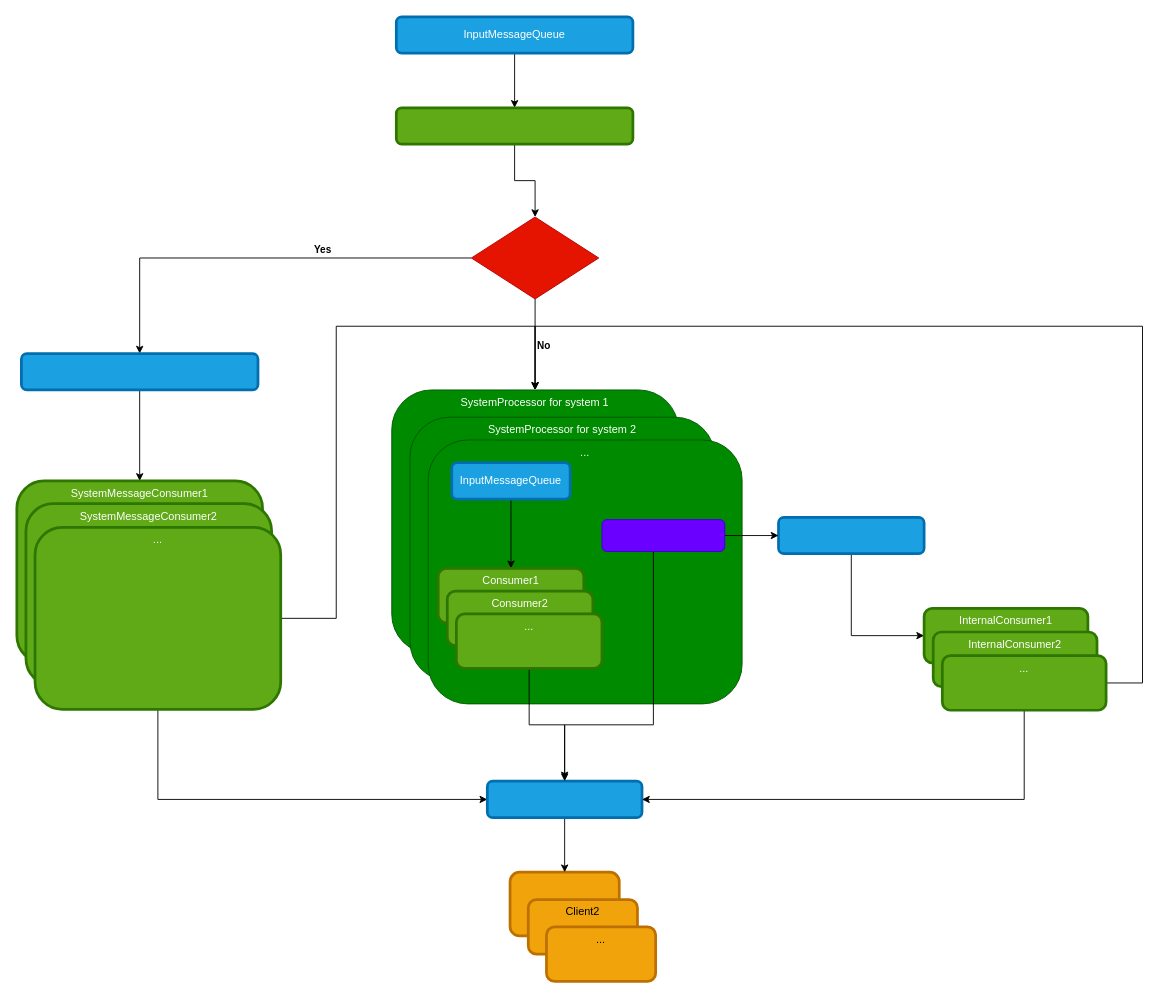
The diagram is 1166 pixels wide and 998 high, and some of its shapes have lost their labels. Here are the shapes that lost their labels. From the top down, the box of each, then its label:
(394, 106, 634, 145): TriageMessageConsumer
(470, 216, 599, 299): Is this a SystemMessage?
(20, 352, 259, 391): SystemQueue
(601, 519, 725, 551): Coordinator
(777, 516, 925, 555): InternalMessageQueue
(485, 779, 643, 819): BroadcastMessageQueue
(508, 870, 620, 937): Client1
